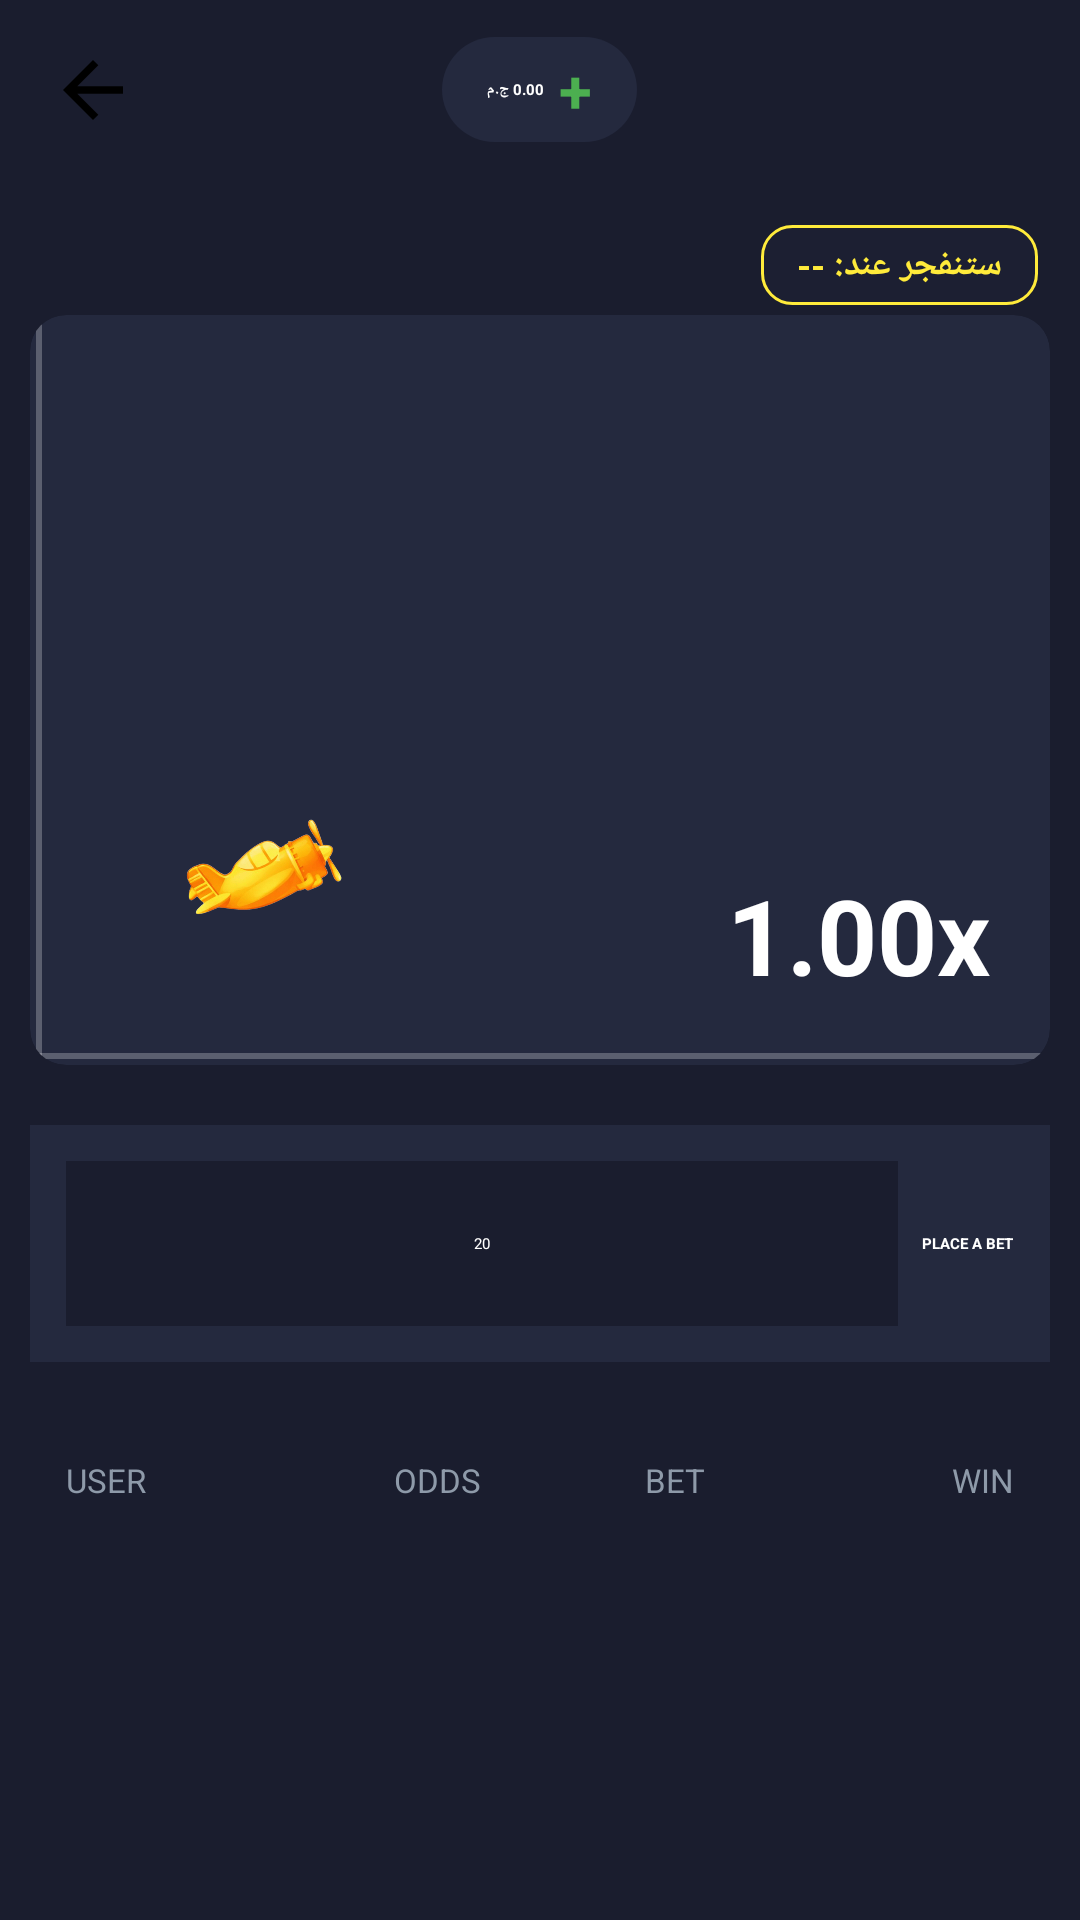

Icon bounding boxes for this 1080 × 1920 phone screenshot, format box=[x1, y1, x2, y2]:
back arrow: box=[64, 61, 123, 119]
